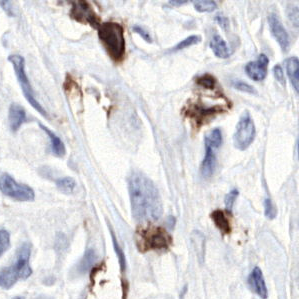Lymphocyte: (98, 22, 129, 62)
